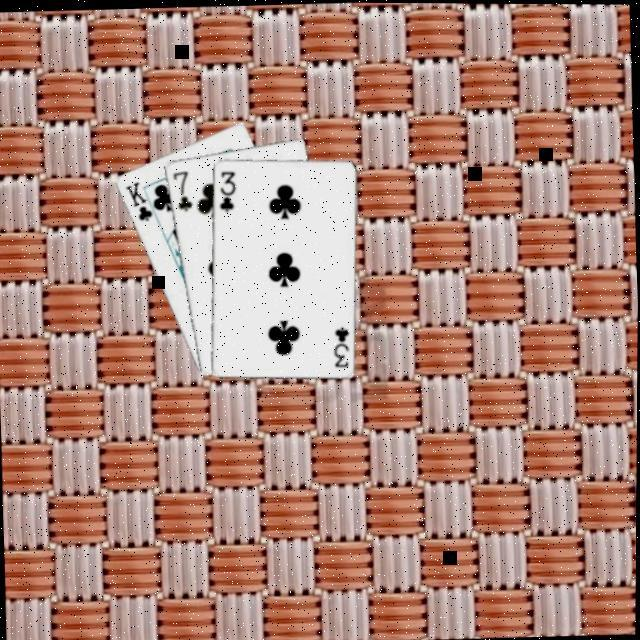3C: (328, 322, 352, 370), (214, 168, 238, 215)
7C: (168, 167, 195, 214)
KC: (120, 178, 160, 225)
